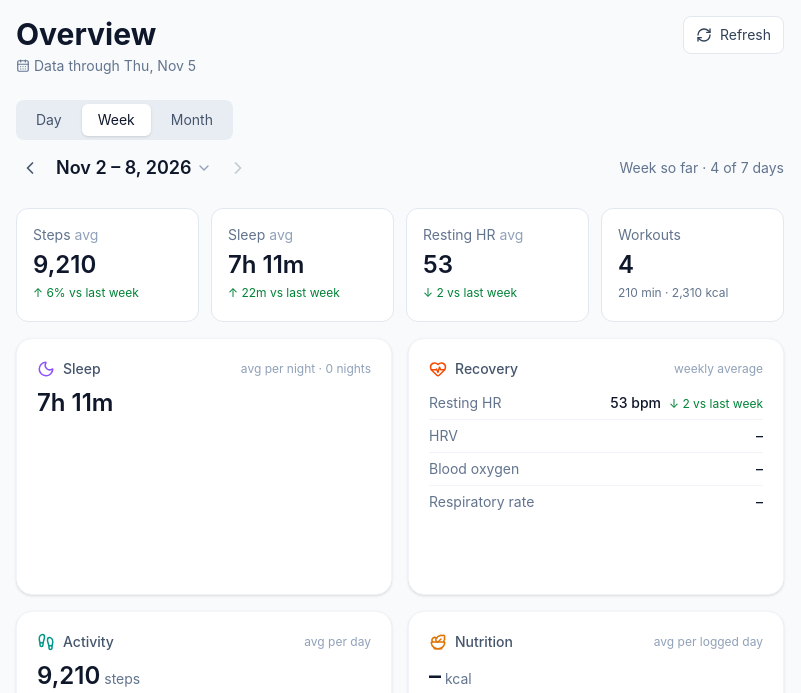
Overview › switches to Day
Click the button "Day" at point(49, 120), box [20,104,78,136]
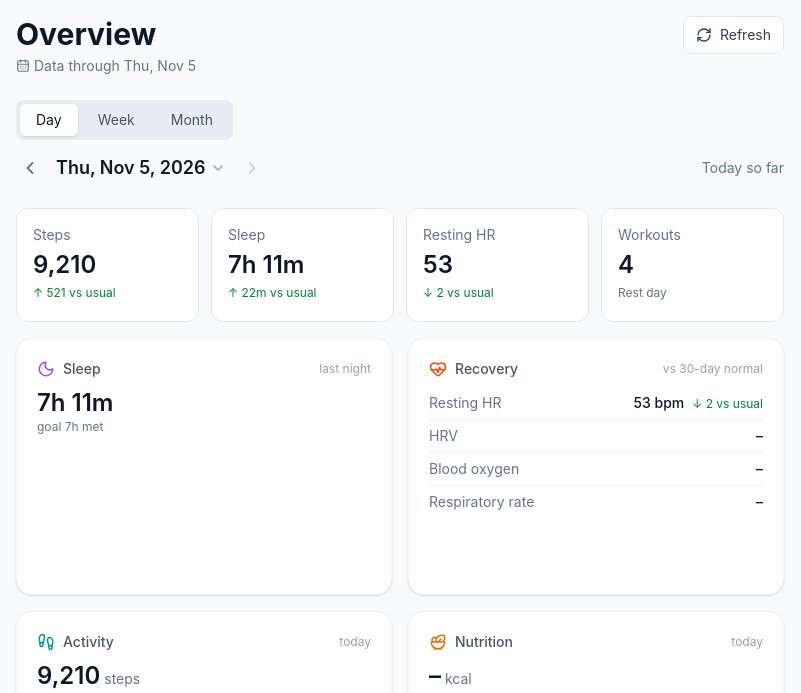
Expected: the heading "Thu, Nov 5, 2026" is shown, [48,152,234,184]
Expected: the text "Today so far" is shown, [702,158,784,178]
